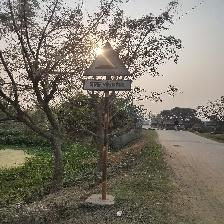Speed-breaker: (83, 39, 135, 94)
